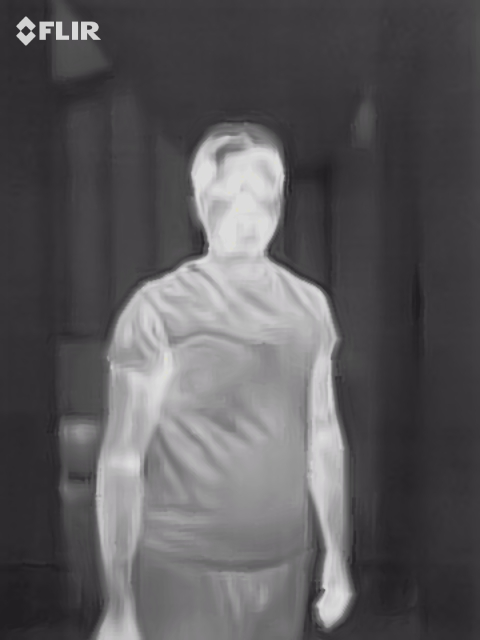head: (188, 121, 286, 250)
